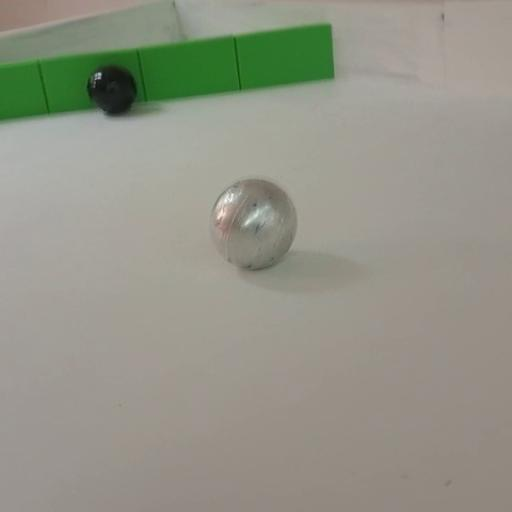alive: (209, 178, 297, 270)
dead: (87, 66, 135, 116)
